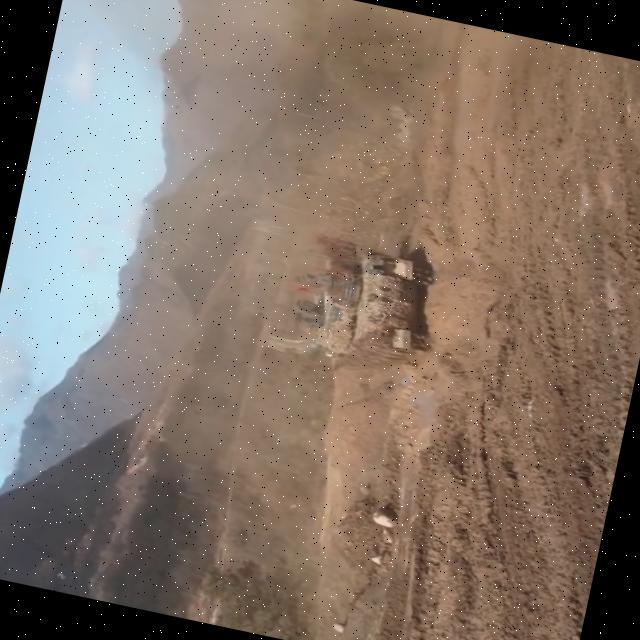korea tank: (261, 226, 451, 418)
